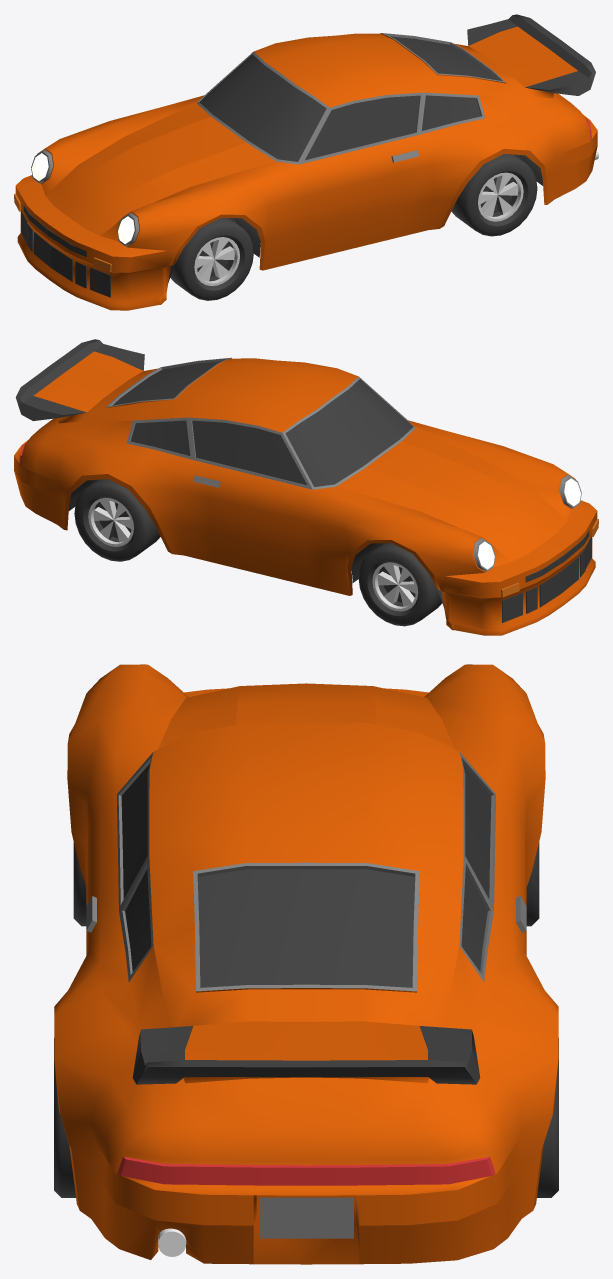
Rendered from car.glb.
3 renders of one model, top to bottom at view 1: azimuth 30°, elevation 25°; view 2: azimuth 150°, elevation 25°; view 3: azimuth 270°, elevation 25°, orthographic. The views are drawn at different scales.
Parts seen in each view (by area): view 1: Body_6; view 2: Body_6; view 3: Body_6.
Part boxes in pixels (x1=…): Body_6: x1=14, y1=14, x2=598, y2=310; Body_6: x1=14, y1=339, x2=598, y2=635; Body_6: x1=54, y1=664, x2=558, y2=1264.
Size of the model in its own units: 10.35 by 3.05 by 4.37.
